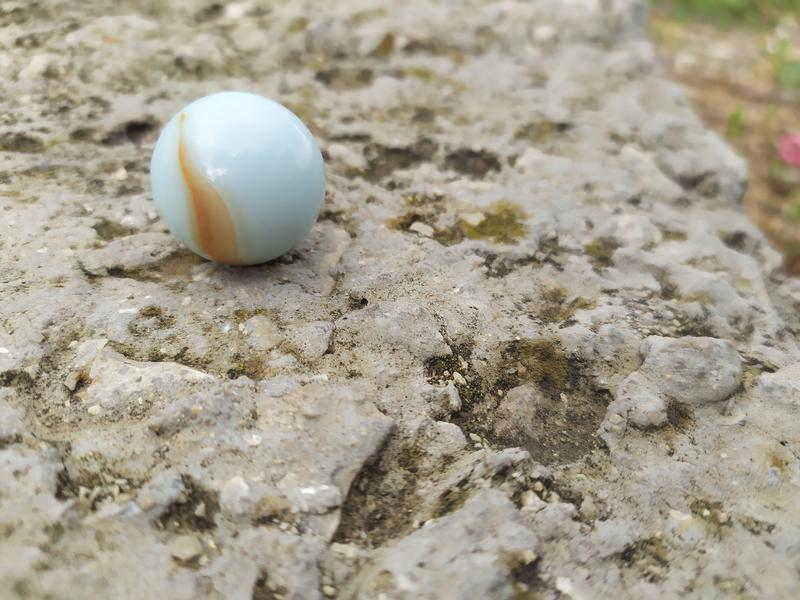Warning: (147, 86, 329, 270)
